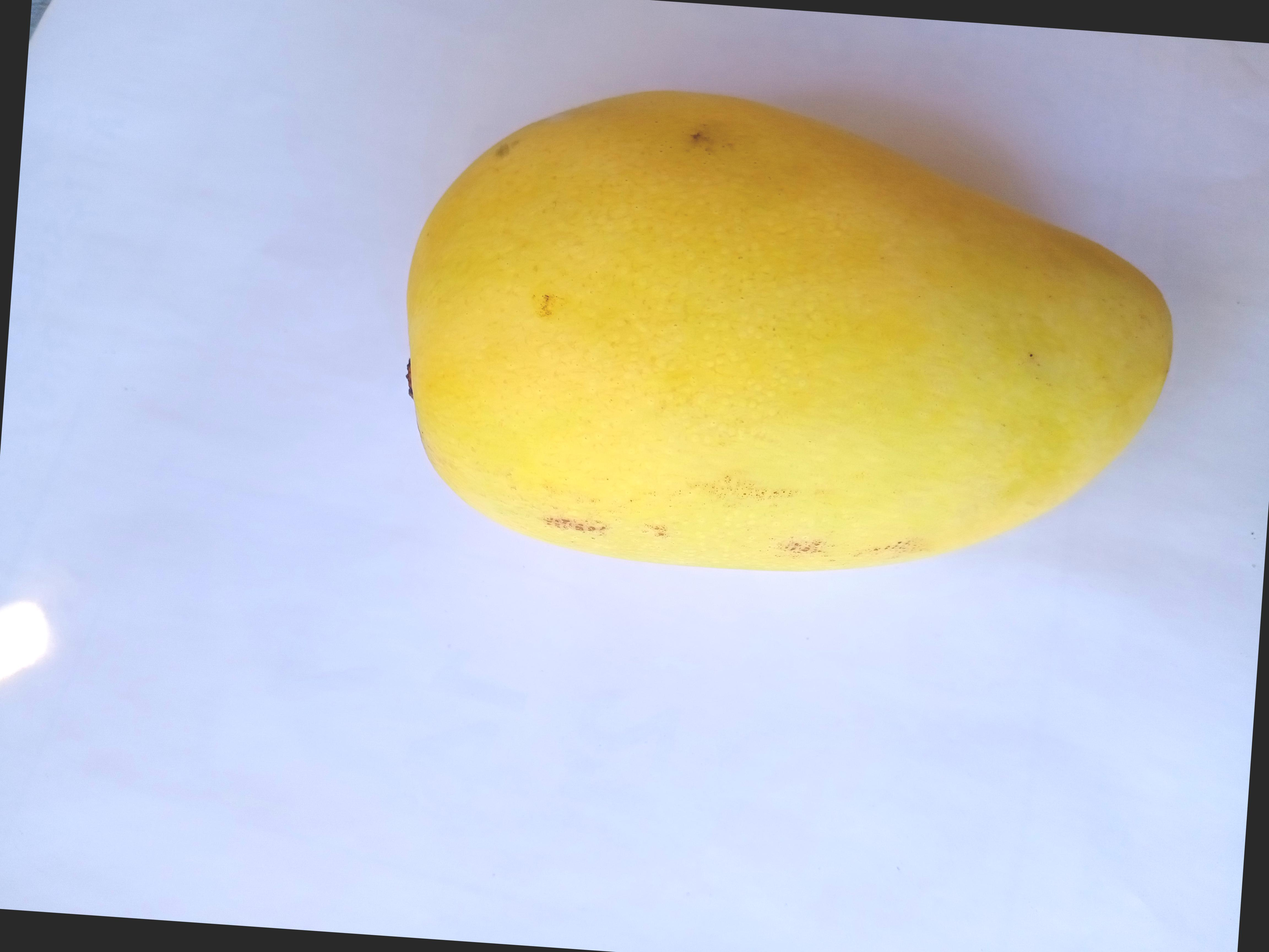Mango Ripe: (373, 0, 1260, 560)
